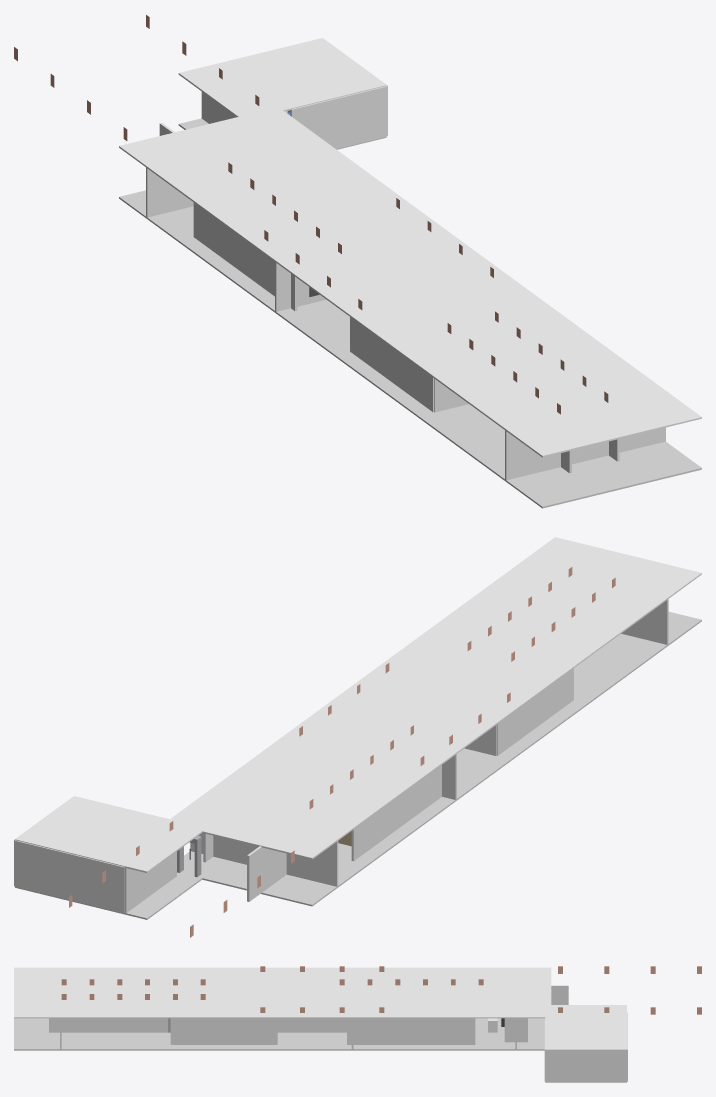
3 renders of one model, top to bottom at view 1: azimuth 30°, elevation 25°; view 2: azimuth 150°, elevation 25°; view 3: azimuth 270°, elevation 25°, orthographic. The views are drawn at different scales.
Visible parts, largest first — view 1: Ceil_S01, Floor_S01, Ceil_S02, Wall_R_s, Wall_off_-4, Wall_open_-4, Wall_end0, Wall_recep, Wall_poster; view 2: Ceil_S01, Floor_S01, Ceil_S02, Wall_R_n, Wall_off_-4, Wall_open_-4, Wall_recep, Wall_R_w, Wall_hall_-1.5, Floor_S02, Wall_end0; view 3: Ceil_S01, Floor_S01, Ceil_S02, Wall_off_4, Wall_open_4, Wall_R_e, Wall_corr_1.5A, Wall_corr_1.5C, Wall_hall_3.5, Wall_hall_-1.5.
Part boxes in pixels (x1=…): Ceil_S01: x1=119, y1=107, x2=701, y2=457; Floor_S01: x1=119, y1=190, x2=701, y2=508; Ceil_S02: x1=178, y1=38, x2=386, y2=119; Wall_R_s: x1=290, y1=86, x2=387, y2=148; Wall_off_-4: x1=193, y1=202, x2=297, y2=310; Wall_open_-4: x1=350, y1=317, x2=434, y2=412; Wall_end0: x1=505, y1=427, x2=665, y2=480; Wall_recep: x1=146, y1=167, x2=193, y2=217; Wall_poster: x1=275, y1=262, x2=325, y2=311; Ceil_S01: x1=169, y1=537, x2=701, y2=859; Floor_S01: x1=181, y1=611, x2=701, y2=906; Ceil_S02: x1=15, y1=796, x2=205, y2=872; Wall_R_n: x1=14, y1=840, x2=124, y2=913; Wall_off_-4: x1=351, y1=765, x2=441, y2=861; Wall_open_-4: x1=496, y1=668, x2=573, y2=755; Wall_recep: x1=190, y1=833, x2=338, y2=886; Wall_R_w: x1=125, y1=851, x2=176, y2=913; Wall_hall_-1.5: x1=247, y1=846, x2=286, y2=901; Floor_S02: x1=15, y1=869, x2=205, y2=919; Wall_end0: x1=621, y1=598, x2=668, y2=644; Ceil_S01: x1=14, y1=967, x2=551, y2=1018; Floor_S01: x1=14, y1=1018, x2=545, y2=1050; Ceil_S02: x1=545, y1=1005, x2=626, y2=1049; Wall_off_4: x1=347, y1=1018, x2=475, y2=1044; Wall_open_4: x1=171, y1=1018, x2=276, y2=1044; Wall_R_e: x1=545, y1=1049, x2=626, y2=1081; Wall_corr_1.5A: x1=49, y1=1018, x2=167, y2=1032; Wall_corr_1.5C: x1=277, y1=1018, x2=346, y2=1032; Wall_hall_3.5: x1=504, y1=1018, x2=527, y2=1042; Wall_hall_-1.5: x1=551, y1=985, x2=568, y2=1004.
Bounding box in the file's own units: 16.58 × 3.69 × 58.91.
